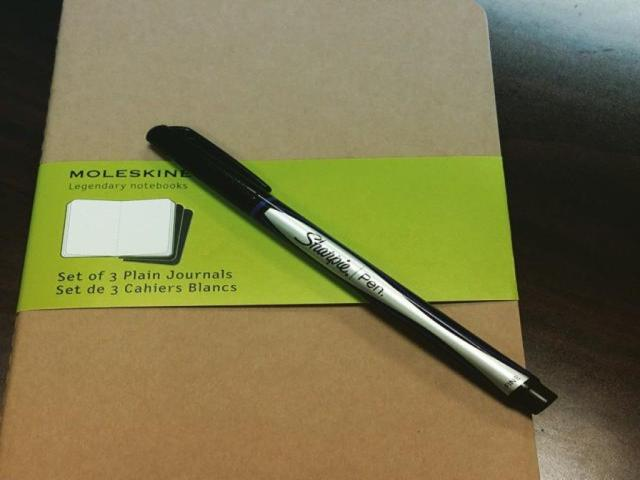PEN: (136, 105, 567, 430)
